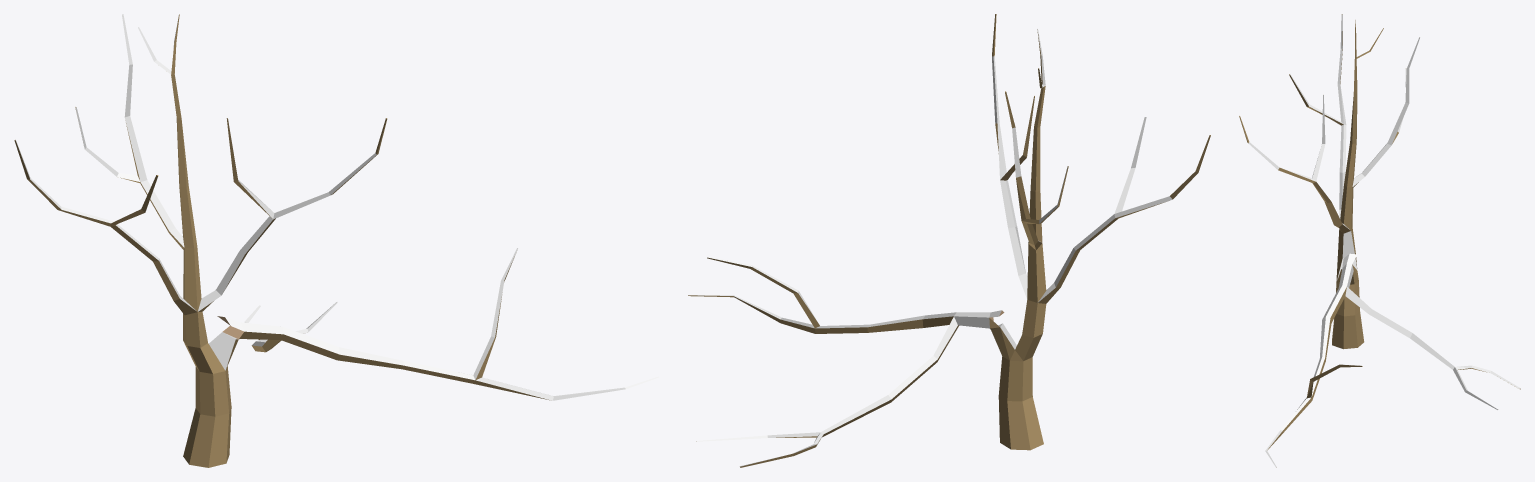
The model's file is Acacia_Tree_NoLeaves_crk_l_Snow_01_LOD.fbx.
3 views of the same model, side by side, from view 1: azimuth 30°, elevation 25°; view 2: azimuth 150°, elevation 25°; view 3: azimuth 270°, elevation 25° (orthographic). The views are drawn at different scales.
Parts seen in each view (by area): view 1: Acacia_Tree_NoLeaves_crk_l_Snow_01_LOD0; view 2: Acacia_Tree_NoLeaves_crk_l_Snow_01_LOD0; view 3: Acacia_Tree_NoLeaves_crk_l_Snow_01_LOD0.
Part boxes in pixels (x1,y1,x2,y2): Acacia_Tree_NoLeaves_crk_l_Snow_01_LOD0: (14, 14, 658, 467); Acacia_Tree_NoLeaves_crk_l_Snow_01_LOD0: (688, 14, 1210, 467); Acacia_Tree_NoLeaves_crk_l_Snow_01_LOD0: (1239, 14, 1520, 467).
Size of what is drawn, in the model's own units: 1639 by 1164 by 943.
